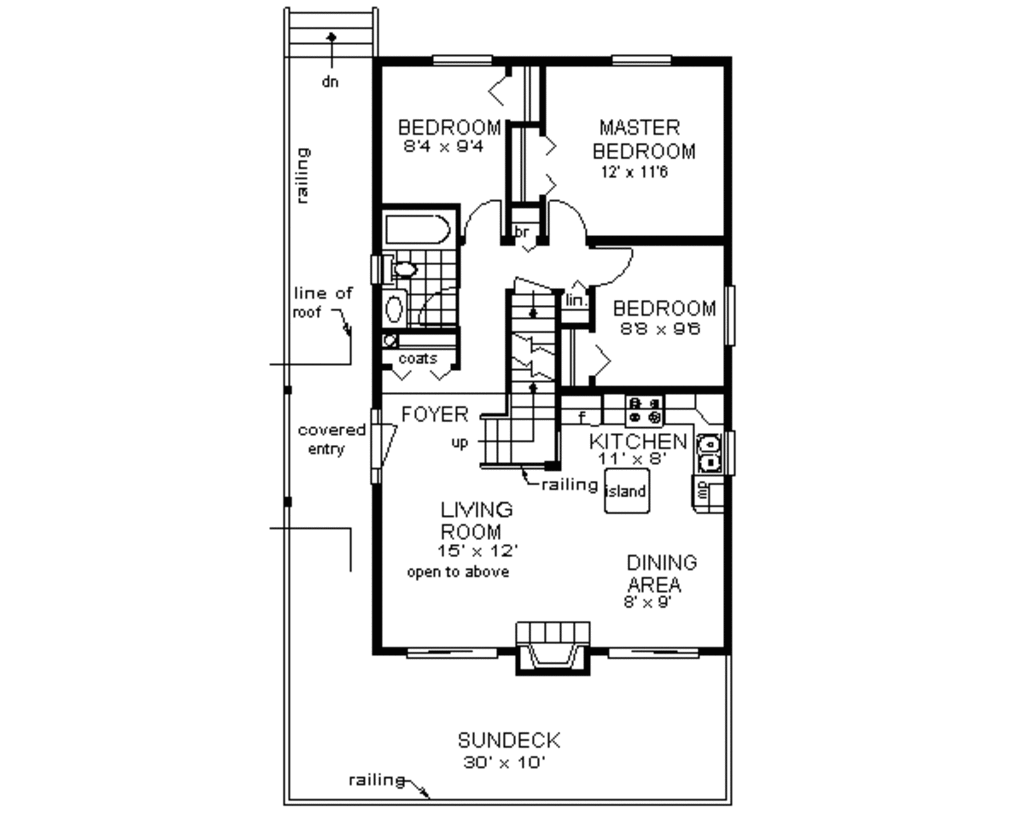door: (359, 418, 408, 489), (458, 191, 506, 252), (583, 243, 637, 295), (545, 196, 592, 242)
large_sink: (359, 244, 436, 285)
small_sink: (377, 287, 410, 328)
stairs: (476, 280, 574, 469), (287, 3, 380, 132)
tub: (380, 206, 454, 251)
twin_sink: (690, 423, 729, 483)
window: (392, 643, 499, 668), (720, 280, 743, 353), (427, 48, 501, 69), (603, 647, 708, 660), (613, 54, 678, 69)
